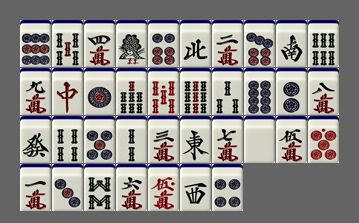0m: (148, 164, 179, 211)
0p: (308, 116, 339, 163)
0s: (148, 68, 179, 115)
1m: (20, 164, 51, 211)
1p: (84, 68, 115, 115)
1s: (116, 20, 147, 67)
1z: (180, 116, 211, 163)
2m: (212, 20, 243, 67)
2p: (276, 68, 307, 115)
2s: (116, 116, 147, 163)
2z: (276, 20, 307, 67)
3m: (148, 116, 179, 163)
3p: (52, 164, 83, 211)
3s: (212, 68, 243, 115)
3z: (180, 164, 211, 211)
4m: (84, 20, 115, 67)
4p: (212, 164, 243, 211)
4s: (52, 116, 83, 163)
4z: (180, 20, 211, 67)
5m: (276, 116, 307, 163)
5p: (84, 116, 115, 163)
5s: (52, 20, 83, 67)
5z: (244, 116, 275, 163)
6m: (116, 164, 147, 211)
6p: (148, 20, 179, 67)
6s: (308, 20, 339, 67)
6z: (20, 116, 51, 163)
7m: (212, 116, 243, 163)
7p: (244, 20, 275, 67)
7s: (116, 68, 147, 115)
7z: (52, 68, 83, 115)
8m: (308, 68, 339, 115)
8p: (244, 68, 275, 115)
8s: (84, 164, 115, 211)
9m: (20, 68, 51, 115)
9p: (20, 20, 51, 67)
9s: (180, 68, 211, 115)
